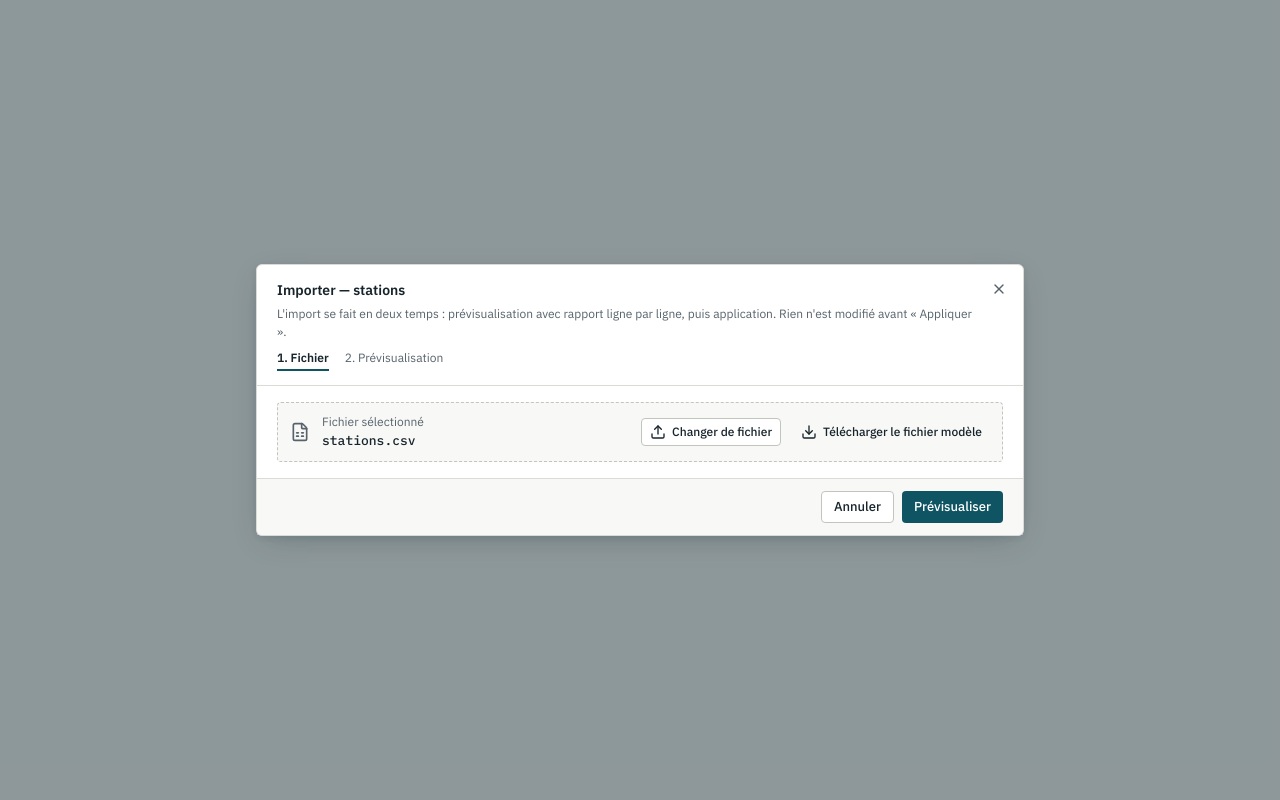
it: ImportDialog › prévisualisation avec erreurs ligne par ligne : application impossible, rien n'est écrit
This screenshot has width=1280, height=800.
Earlier steps of the test are not shown.
Later steps or results of the test are not shown.
Expected: the dialog "Importer — stations" is shown, [256,264,1024,536]
Expected: the text "stations.csv" is shown, [322,432,416,449]
Click the button "Prévisualiser": (952, 507) [902,491,1003,523]
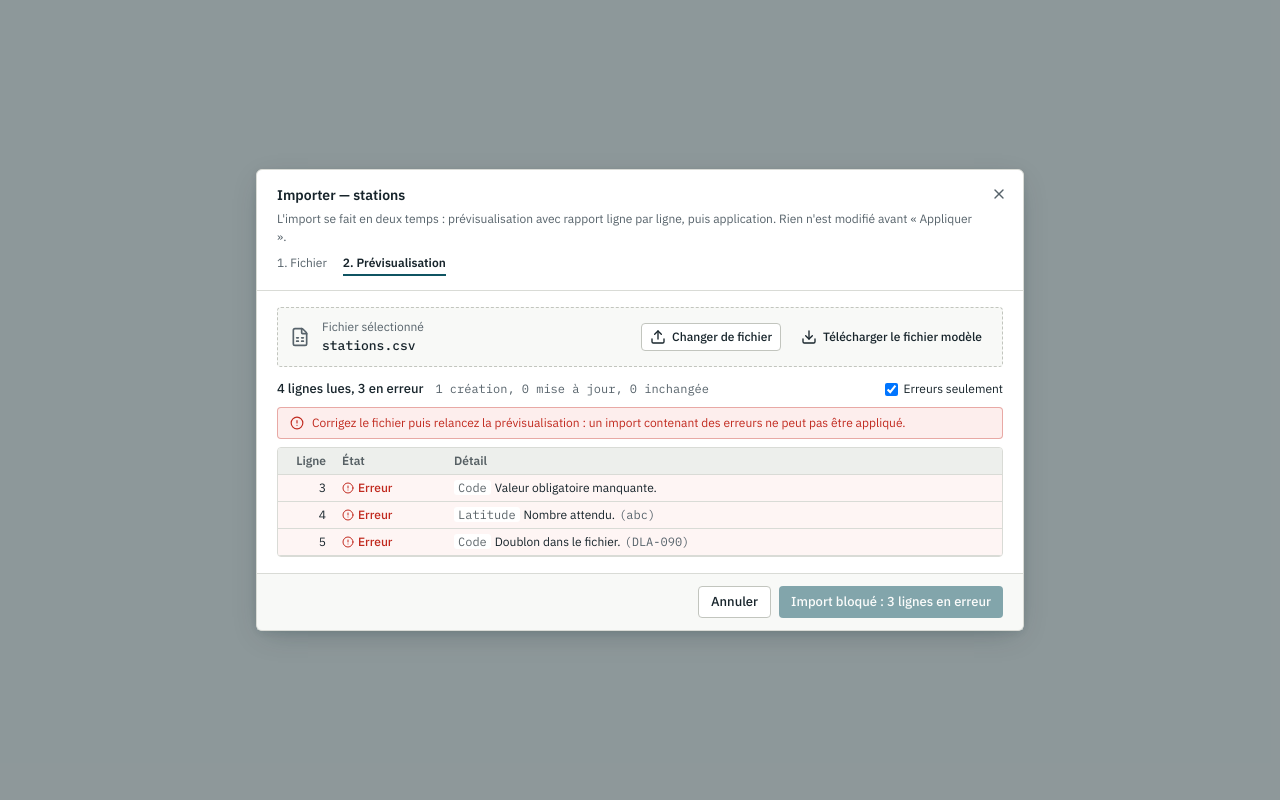
Expected: the text with test id "import-summary" reads "4 lignes lues, 3 en erreur", [277,380,423,397]
Expected: the 2nd row shows "Code", [458,480,487,495]
Expected: the 2nd row shows "Valeur obligatoire manquante.", [495,480,657,495]
Click the checkbox labelled "Erreurs seulement": (891, 389) [885,382,898,396]
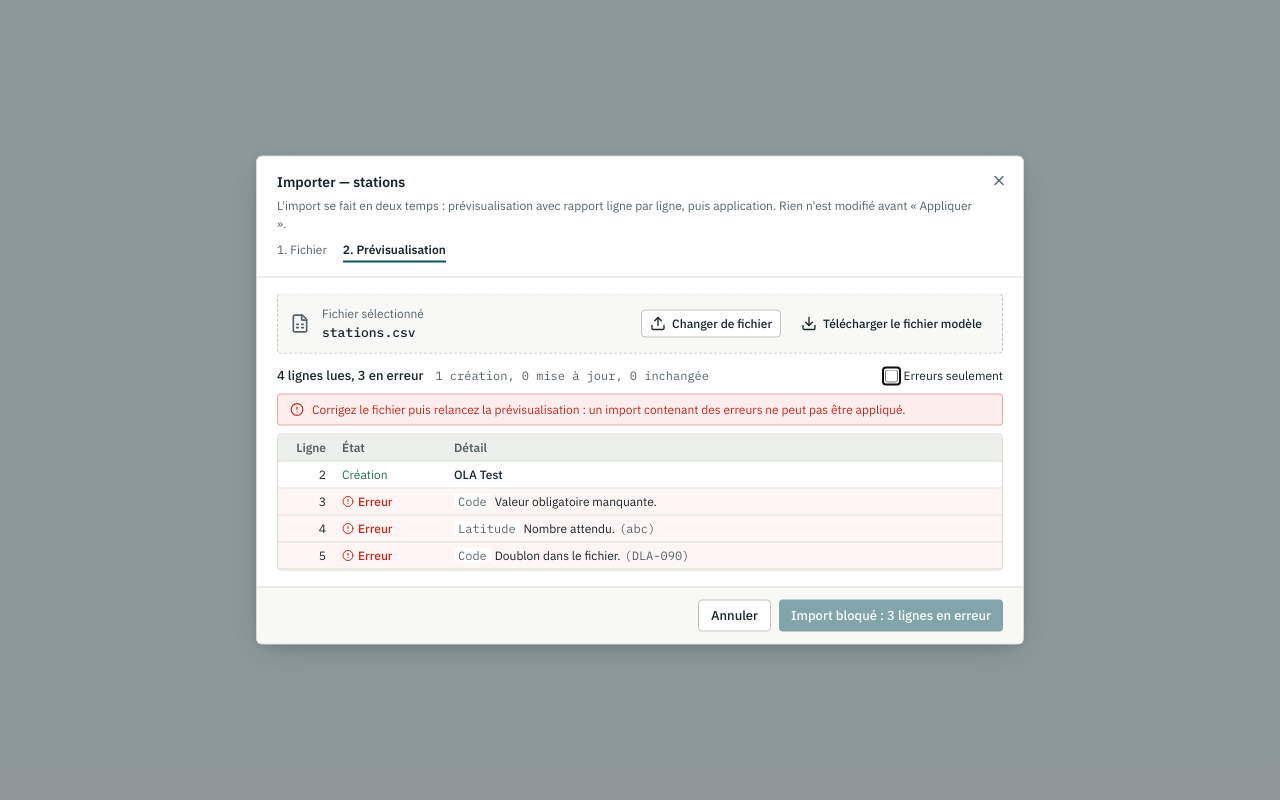
Expected: the row "2 Création OLA Test" is shown, [278,462,1002,488]
